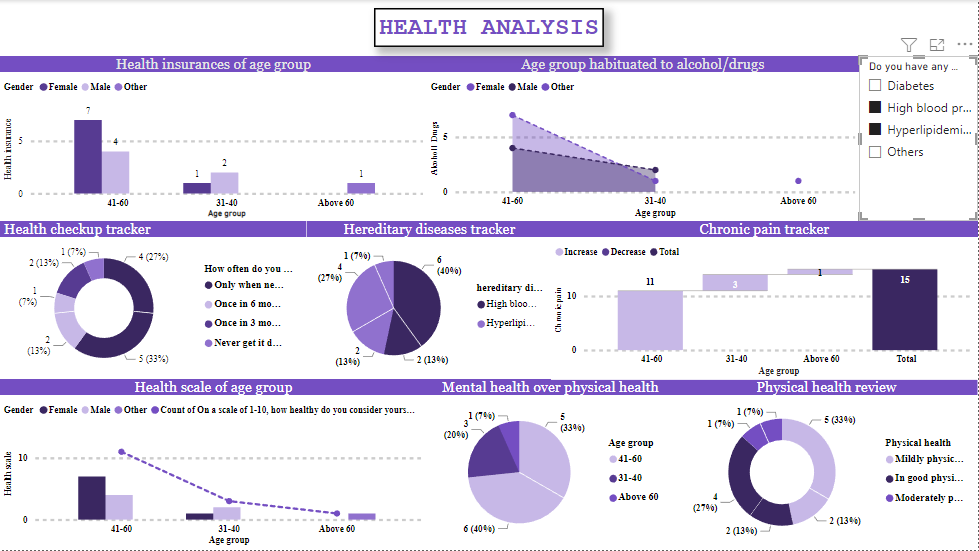

What the dashboard file says about the page in this screenshot:
{"tool":"powerbi","page":{"name":"Page 2","canvas":[1280,720],"ordinal":1},"visuals":[{"type":"areaChart","title":"Age group habituated to alcohol/drugs ","fields":{"Category":["Health Analysis.Age group"],"Y":["CountNonNull(Health Analysis.Are you habituated to alcohol/drugs ?)"],"Series":["Health Analysis.Gender"]},"box":[558.7,72.8,565.5,216.7],"z":0},{"type":"slicer","fields":{"Values":["Health Analysis.Do you have any hereditary conditions/ diseases ?"]},"box":[1124.2,72.8,155.8,216.7],"z":1000},{"type":"clusteredColumnChart","title":"Health insurances of age group","fields":{"Series":["Health Analysis.Gender"],"Category":["Health Analysis.Age group"],"Y":["CountNonNull(Health Analysis.Do you have a health insurance ? )"]},"box":[0,72.8,558.7,216.7],"z":2000},{"type":"pieChart","title":"Hereditary diseases tracker","fields":{"Series":["Health Analysis.Gender"],"Category":["Health Analysis.Do you have any hereditary conditions/ diseases ?"],"Y":["CountNonNull(Health Analysis.Gender)"]},"box":[401.3,289.5,320,206.6],"z":3000},{"type":"donutChart","title":"Health checkup tracker","fields":{"Series":["Health Analysis.Gender"],"Y":["CountNonNull(Health Analysis.Gender)"],"Category":["Health Analysis.How often do you get a health checkup ? "]},"box":[0,289.5,401.3,206.6],"z":4000},{"type":"lineClusteredColumnComboChart","title":"Health scale of age group","fields":{"Category":["Health Analysis.Age group"],"Series":["Health Analysis.Gender"],"Y":["CountNonNull(Health Analysis.On a scale of 1-10, how healthy do you consider yourself ?)"],"Y2":["CountNonNull(Health Analysis.On a scale of 1-10, how healthy do you consider yourself ?)"]},"box":[0,496.1,558.7,223.5],"z":5000},{"type":"donutChart","title":"Physical health review ","fields":{"Y":["CountNonNull(Health Analysis.Gender)"],"Series":["Health Analysis.Gender"],"Category":["Health Analysis.Would you say you are :"]},"box":[883.8,496.1,396.2,223.5],"z":6000},{"type":"pieChart","title":"Mental health over physical health","fields":{"Category":["Health Analysis.Age group"],"Y":["CountNonNull(Health Analysis.Does your mental well being has an affect on your physical health ?)"],"Series":["Health Analysis.Does your mental well being has an affect on your physical health ?"]},"box":[558.3,495.9,325.5,223],"z":7000},{"type":"waterfallChart","title":"Chronic pain tracker ","fields":{"Category":["Health Analysis.Age group"],"Y":["CountNonNull(Health Analysis.Do you experience any chronic pain ?)"]},"box":[721.3,289.5,558.7,208.3],"z":8000},{"type":"shape","box":[489,11.1,300.6,51.3],"z":9000}]}

Visuals, with their boxes in screenshot pixels (x1, y1, x2, y2), scaled from the page's 1280x720 canvas onto the 979x551 screenshot:
"Age group habituated to alcohol/drugs " areaChart: x1=427 y1=56 x2=860 y2=222
slicer - Health Analysis.Do you have any hereditary conditions/ diseases ?: x1=860 y1=56 x2=978 y2=222
"Health insurances of age group" clusteredColumnChart: x1=0 y1=56 x2=427 y2=222
"Hereditary diseases tracker" pieChart: x1=307 y1=222 x2=552 y2=380
"Health checkup tracker" donutChart: x1=0 y1=222 x2=307 y2=380
"Health scale of age group" lineClusteredColumnComboChart: x1=0 y1=380 x2=427 y2=550
"Physical health review " donutChart: x1=676 y1=380 x2=978 y2=550
"Mental health over physical health" pieChart: x1=427 y1=380 x2=676 y2=550
"Chronic pain tracker " waterfallChart: x1=552 y1=222 x2=978 y2=381
shape: x1=374 y1=8 x2=604 y2=48
